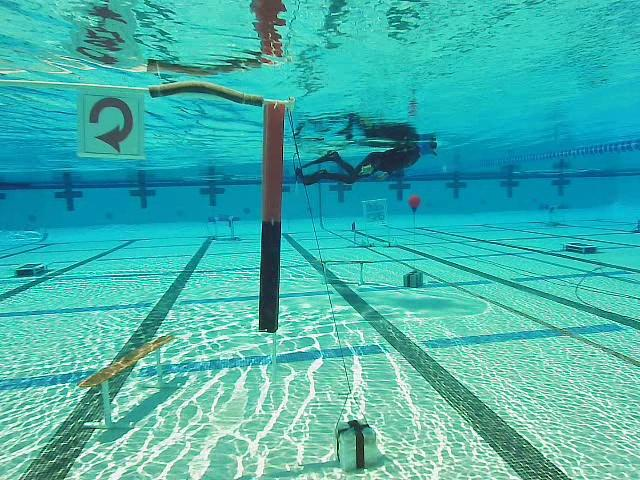buoy: (407, 195, 422, 214)
gate_leg_r: (257, 99, 291, 333)
gate_red: (80, 92, 143, 157)
table: (208, 216, 240, 242)
torpedo: (362, 199, 387, 225)
